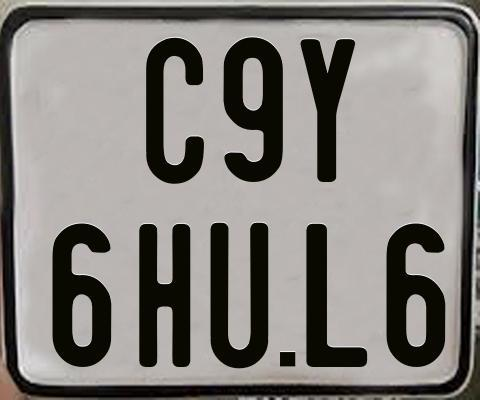6: (50, 223, 113, 368), (383, 223, 445, 369)
9: (222, 37, 286, 185)
C: (146, 38, 208, 185)
H: (138, 223, 195, 366)
L: (304, 222, 370, 365)
U: (208, 220, 269, 371)
Y: (300, 38, 355, 186)
